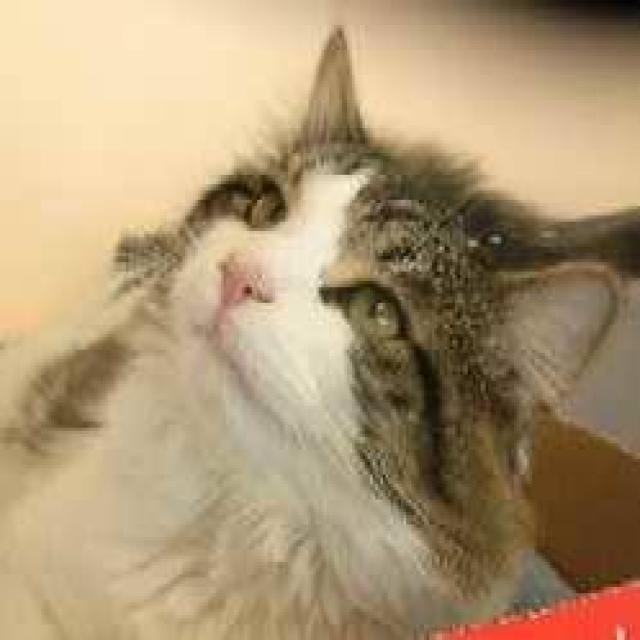cat: (0, 22, 637, 637)
